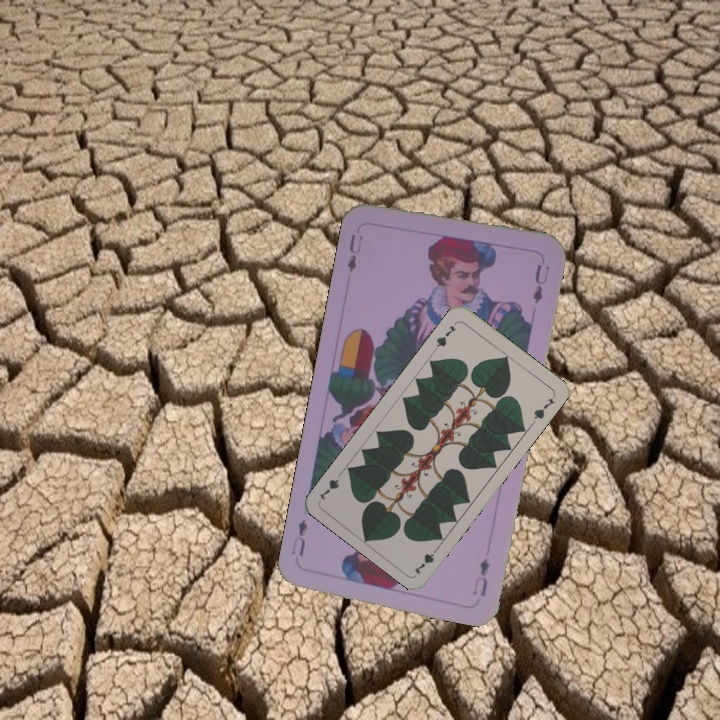EU: (468, 554, 492, 599), (343, 230, 366, 275)
G7: (410, 542, 442, 577), (431, 318, 460, 353)
